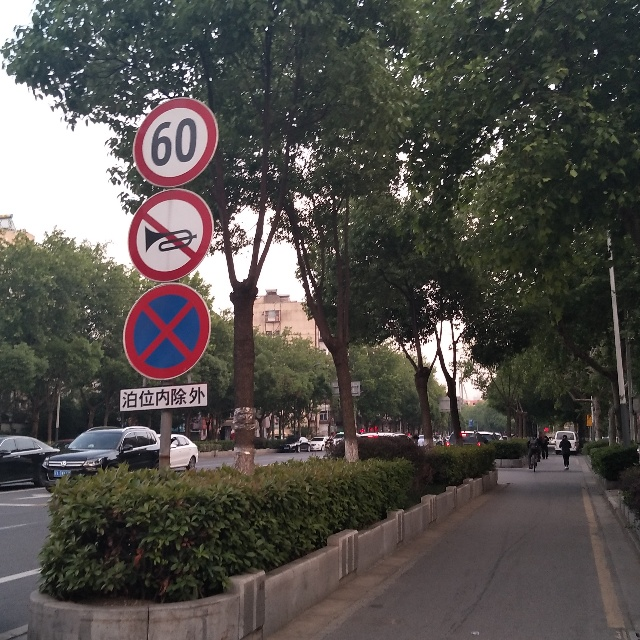nohonk: (128, 189, 213, 282)
stop: (122, 283, 210, 381)
